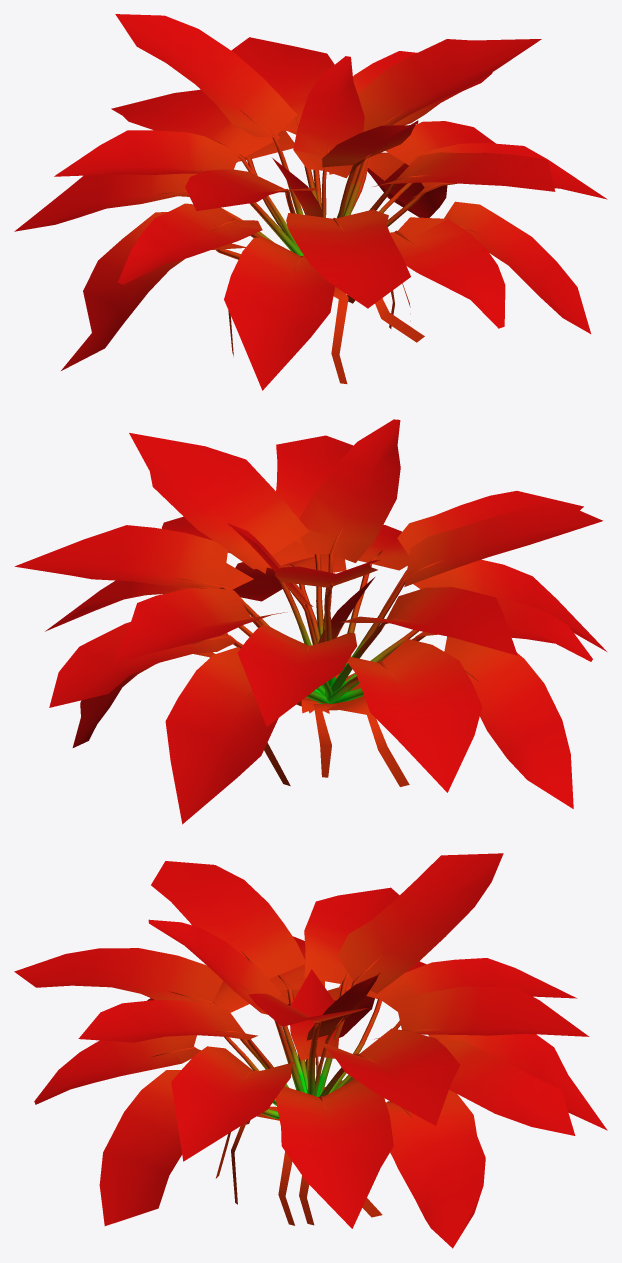
Rendered from Xanadu_LOD1_Var5_siroZ.fbx.
The picture shows the model from 3 angles, top to bottom: view 1: azimuth 30°, elevation 25°; view 2: azimuth 150°, elevation 25°; view 3: azimuth 270°, elevation 25°; orthographic projection. The views are drawn at different scales.
Visible parts, largest first — view 1: _92f1_Var5_LOD1; view 2: _92f1_Var5_LOD1; view 3: _92f1_Var5_LOD1.
Part boxes in pixels (<box>): _92f1_Var5_LOD1: <box>14,14,607,390</box>; _92f1_Var5_LOD1: <box>14,419,606,824</box>; _92f1_Var5_LOD1: <box>14,853,607,1248</box>.
Size of the model in its own units: 67.78 by 36.78 by 69.35.
